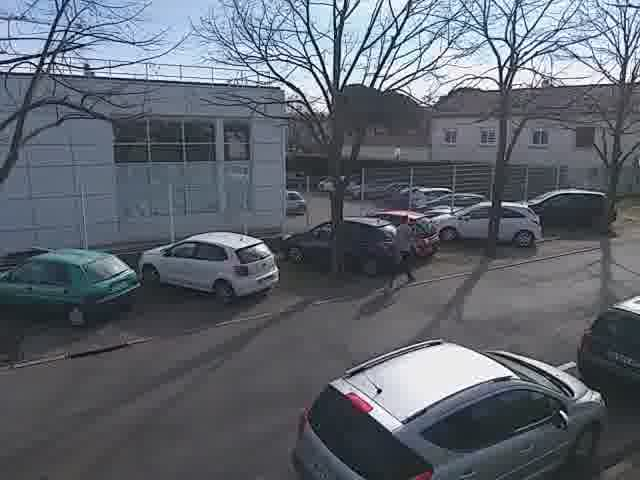persona: (386, 201, 424, 286)
